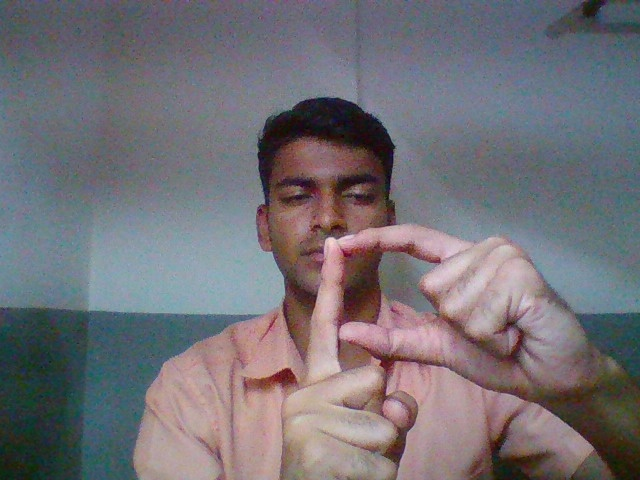P: (265, 221, 626, 474)
